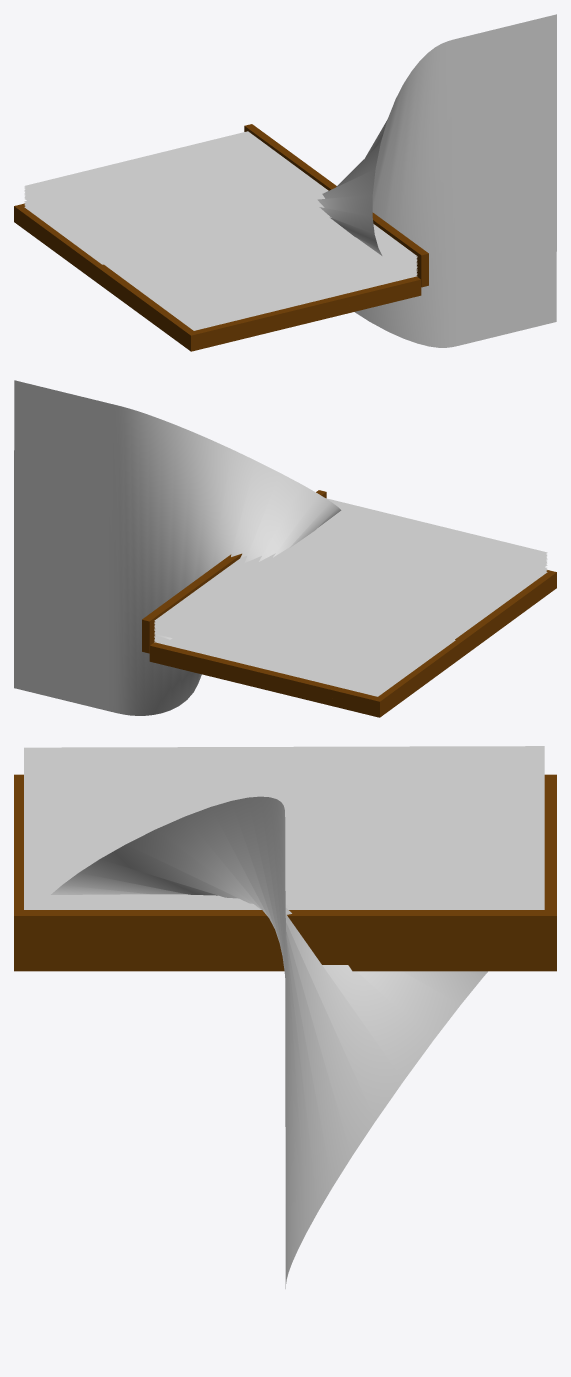
Rendered from Book3.fbx.
The picture shows the model from 3 angles, top to bottom: view 1: azimuth 30°, elevation 25°; view 2: azimuth 150°, elevation 25°; view 3: azimuth 270°, elevation 25°; orthographic projection. The views are drawn at different scales.
Visible parts, largest first — view 1: Page.010, Page, Cover_Right, Cover_Left, Spine, Page.011, Page.005, Page.006, Page.008, Page.014, Page.009, Page.001 (+6 smaller); view 2: Page.010, Page, Cover_Right, Cover_Left, Spine, Page.011, Page.014, Page.003, Page.004, Page.009, Page.012, Page.001 (+7 smaller); view 3: Page, Page.010, Spine, Cover_Left, Cover_Right.
Boxes of the visible parts, x1=… form: Page.010: x1=317, y1=14, x2=556, y2=347; Page: x1=24, y1=131, x2=417, y2=310; Cover_Right: x1=14, y1=203, x2=420, y2=343; Cover_Left: x1=14, y1=214, x2=421, y2=351; Spine: x1=244, y1=124, x2=428, y2=287; Page.011: x1=24, y1=201, x2=417, y2=326; Page.005: x1=24, y1=192, x2=417, y2=318; Page.006: x1=24, y1=194, x2=417, y2=319; Page.008: x1=24, y1=197, x2=417, y2=322; Page.014: x1=24, y1=205, x2=417, y2=330; Page.009: x1=24, y1=198, x2=417, y2=323; Page.001: x1=24, y1=187, x2=417, y2=312; Page.010: x1=14, y1=380, x2=341, y2=715; Page: x1=154, y1=498, x2=547, y2=675; Cover_Right: x1=150, y1=570, x2=556, y2=709; Cover_Left: x1=149, y1=580, x2=556, y2=717; Spine: x1=142, y1=490, x2=326, y2=653; Page.011: x1=154, y1=567, x2=546, y2=691; Page.014: x1=154, y1=572, x2=547, y2=695; Page.003: x1=154, y1=556, x2=546, y2=679; Page.004: x1=154, y1=557, x2=547, y2=681; Page.009: x1=154, y1=565, x2=547, y2=688; Page.012: x1=154, y1=569, x2=546, y2=692; Page.001: x1=154, y1=553, x2=546, y2=676; Page: x1=24, y1=746, x2=544, y2=909; Page.010: x1=51, y1=796, x2=487, y2=1288; Spine: x1=14, y1=910, x2=556, y2=964; Cover_Left: x1=14, y1=965, x2=556, y2=971; Cover_Right: x1=14, y1=774, x2=556, y2=909.
Bounding box in the file's own units: 296 × 192 × 200.
